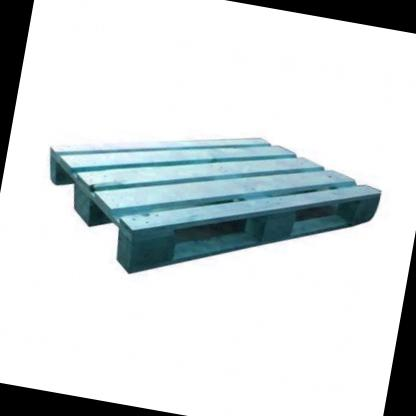BoxFace: (50, 136, 387, 276)
